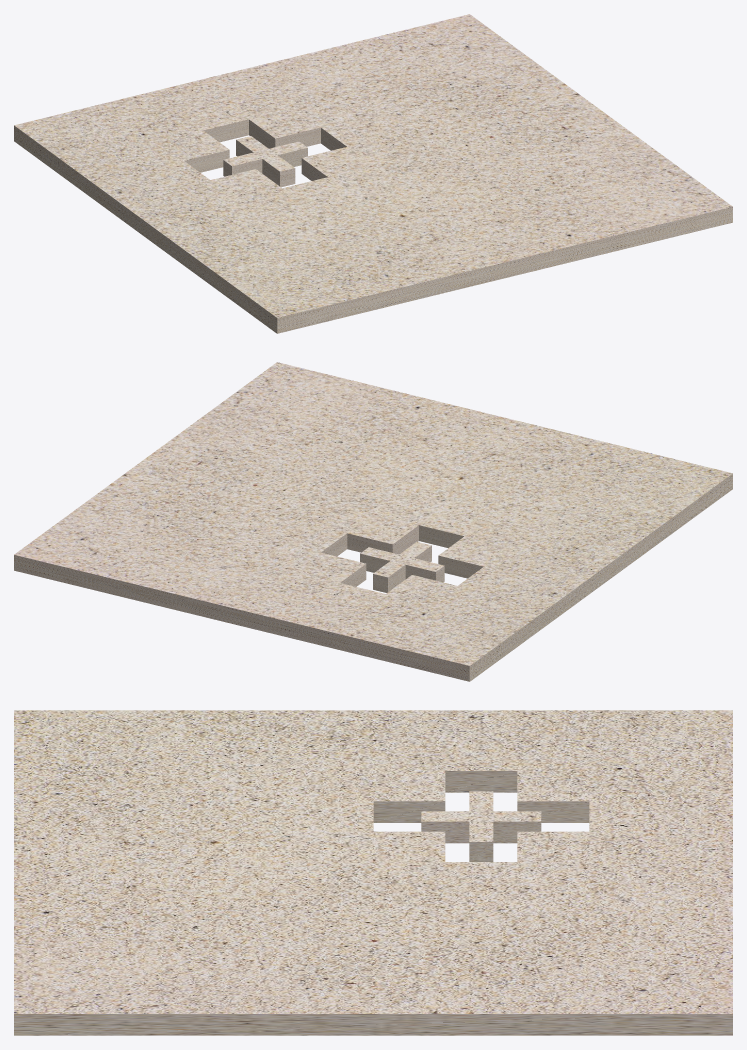
3 views of the same model, one above another, from view 1: azimuth 30°, elevation 25°; view 2: azimuth 150°, elevation 25°; view 3: azimuth 270°, elevation 25° (orthographic). The views are drawn at different scales.
Parts seen in each view (by area): view 1: PlaneCross; view 2: PlaneCross; view 3: PlaneCross.
Part boxes in pixels (<box>): PlaneCross: <box>14,14,732,333</box>; PlaneCross: <box>14,362,732,681</box>; PlaneCross: <box>14,710,732,1035</box>.
Size of the model in its own units: 300 by 10 by 300.
1 material, 1 textured.
